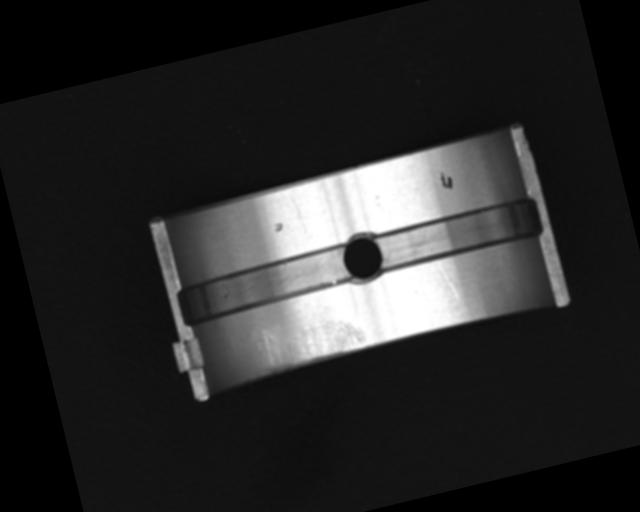blot: (437, 169, 454, 193)
bruise: (272, 221, 284, 233)
gap: (173, 241, 359, 328), (370, 193, 548, 276)
hole: (337, 228, 389, 290)
nick: (437, 257, 461, 304), (292, 197, 307, 233)
scratch: (252, 306, 370, 376)
